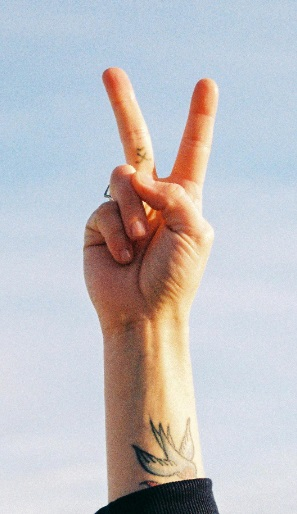peace: (82, 66, 220, 329)
